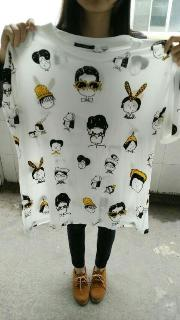short sleeve dress: (2, 22, 180, 235)
trousers: (60, 139, 125, 269)
